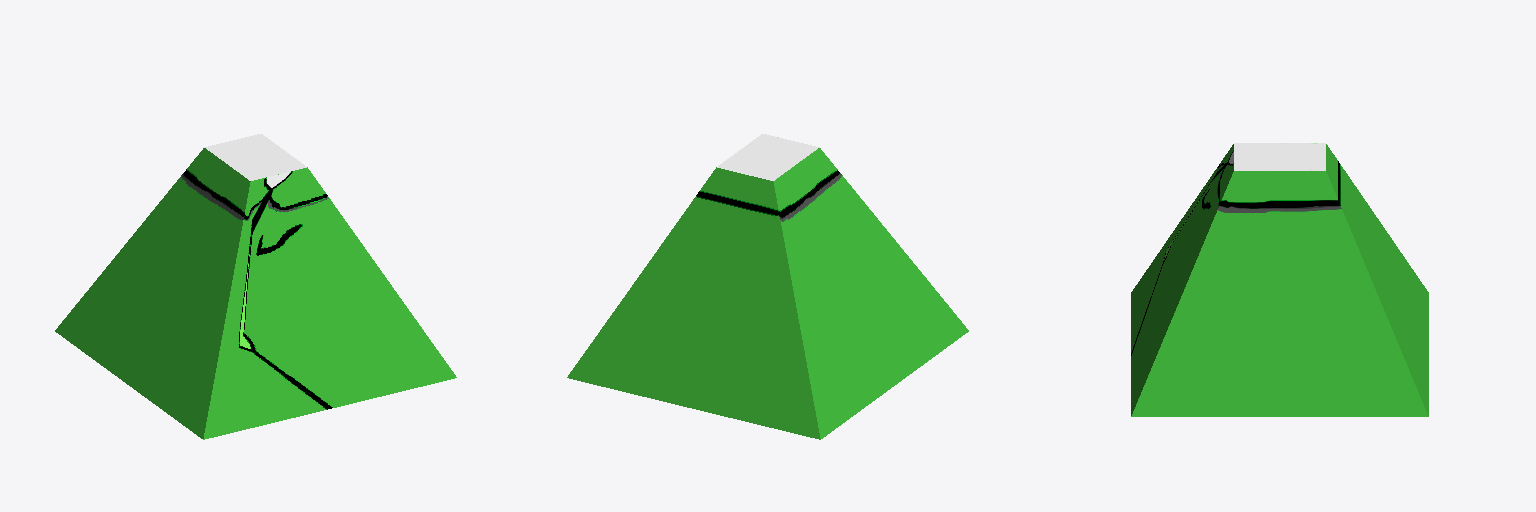
The picture shows the model from 3 angles: view 1: azimuth 30°, elevation 25°; view 2: azimuth 150°, elevation 25°; view 3: azimuth 270°, elevation 25°; orthographic projection.
Visible parts, largest first — view 1: 立方体.001; view 2: 立方体.001; view 3: 立方体.001.
Part boxes in pixels (x1,y1,x2,y2): 立方体.001: (55, 134, 456, 439); 立方体.001: (567, 134, 968, 439); 立方体.001: (1131, 143, 1428, 416).
Bounding box in the file's own units: 3.5 × 2.6 × 3.55.
1 materials, 1 textured.